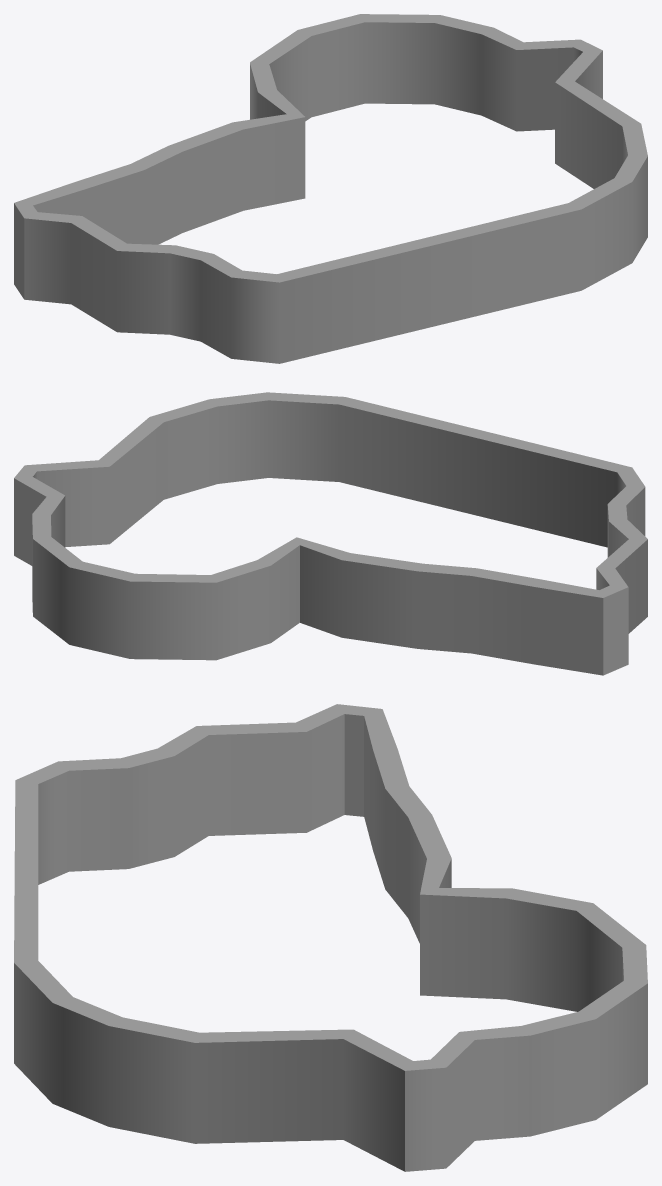
Rendered from BiscuitCutter_Duck_01.fbx.
The picture shows the model from 3 angles, top to bottom: view 1: azimuth 30°, elevation 25°; view 2: azimuth 150°, elevation 25°; view 3: azimuth 270°, elevation 25°; orthographic projection. The views are drawn at different scales.
Visible parts, largest first — view 1: BiscuitCutter_Duck_01; view 2: BiscuitCutter_Duck_01; view 3: BiscuitCutter_Duck_01.
Boxes of the visible parts, bbox=[...] form: BiscuitCutter_Duck_01: bbox=[14, 14, 647, 363]; BiscuitCutter_Duck_01: bbox=[14, 392, 647, 675]; BiscuitCutter_Duck_01: bbox=[14, 704, 647, 1171].
Size of the model in its own units: 0.0994 by 0.0128 by 0.0726.
